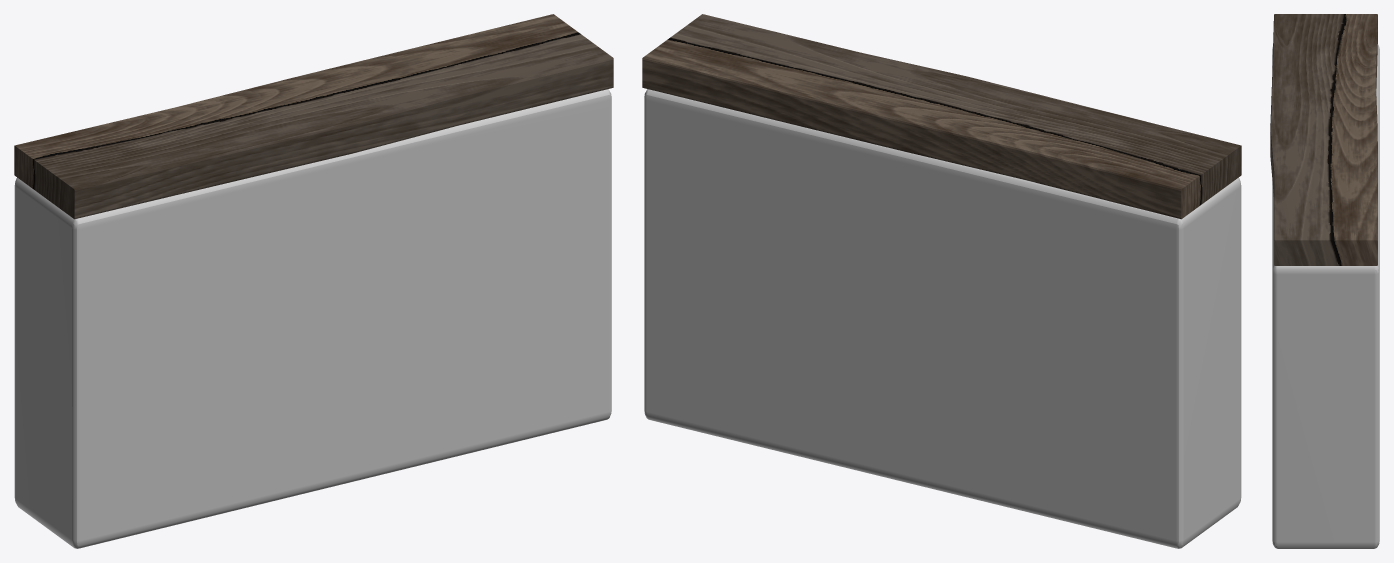
The model's file is SM_Foundation_Bigg.fbx.
The picture shows the model from 3 angles, left to right: view 1: azimuth 30°, elevation 25°; view 2: azimuth 150°, elevation 25°; view 3: azimuth 270°, elevation 25°; orthographic projection. The views are drawn at different scales.
Visible parts, largest first — view 1: SM_Foundation_Small1; view 2: SM_Foundation_Small1; view 3: SM_Foundation_Small1.
Part boxes in pixels (x1,y1,x2,y2): SM_Foundation_Small1: [14, 14, 613, 548]; SM_Foundation_Small1: [642, 14, 1241, 548]; SM_Foundation_Small1: [1270, 14, 1379, 548].
Bounding box in the file's own units: 299 × 192 × 61.12.
